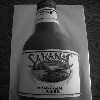beer: (21, 1, 80, 100)
